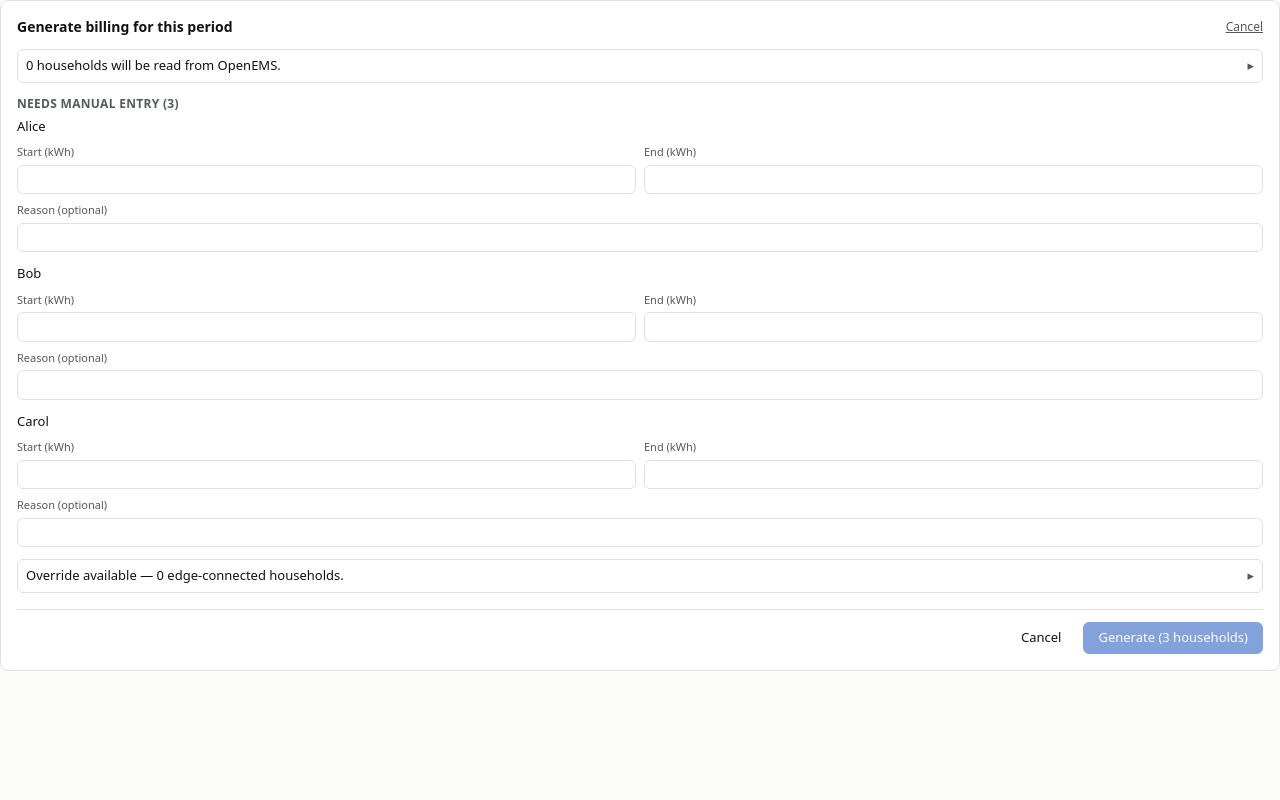
Test: PreflightPanel — partial-failure result view (BC3 polish #182) › partial failure: panel stays open, switches to result view with warn banner + per-code copy
Type "100" into the number field named "Start kWh for Alice" at (326, 179), box top-left (17, 164), bottom-right (636, 194)
Type "150" into the number field named "End kWh for Alice" at (954, 179), box top-left (644, 164), bottom-right (1263, 194)
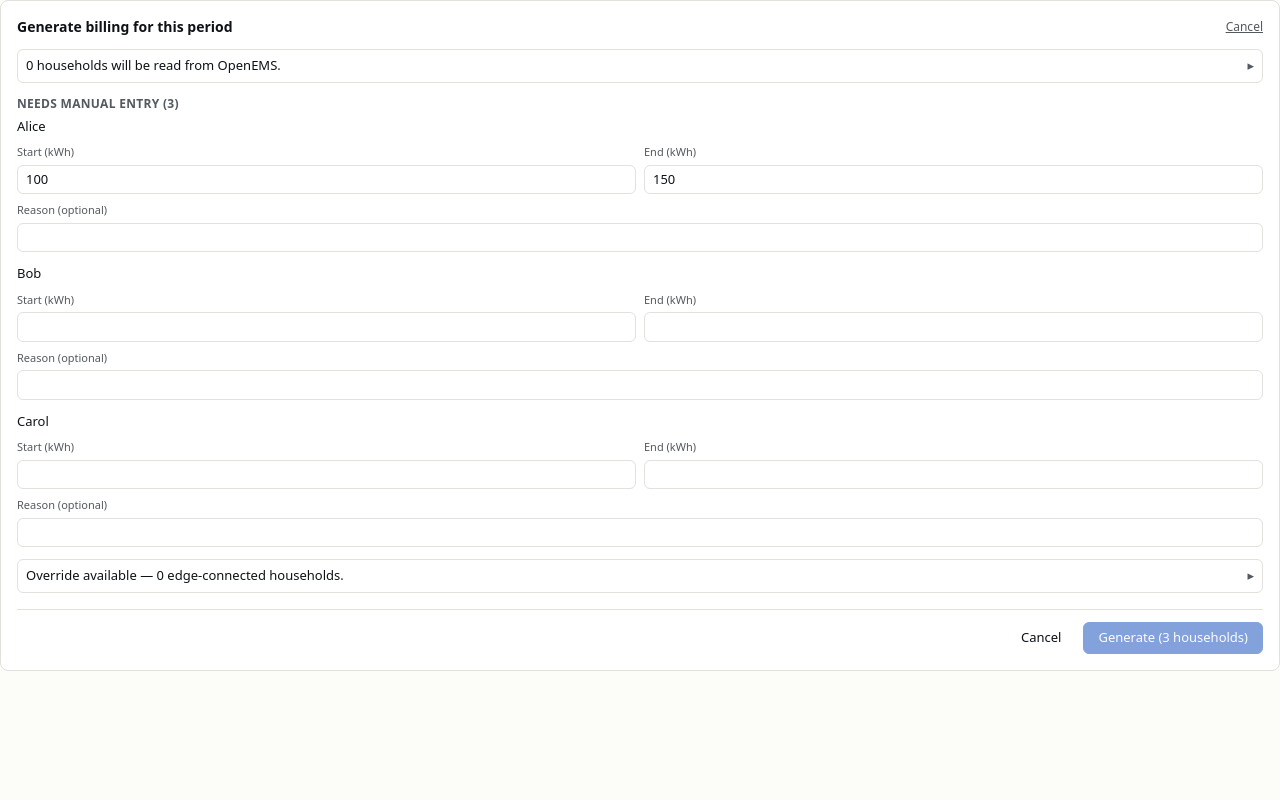
Type "200" into the number field named "Start kWh for Bob" at (326, 327), box top-left (17, 312), bottom-right (636, 342)
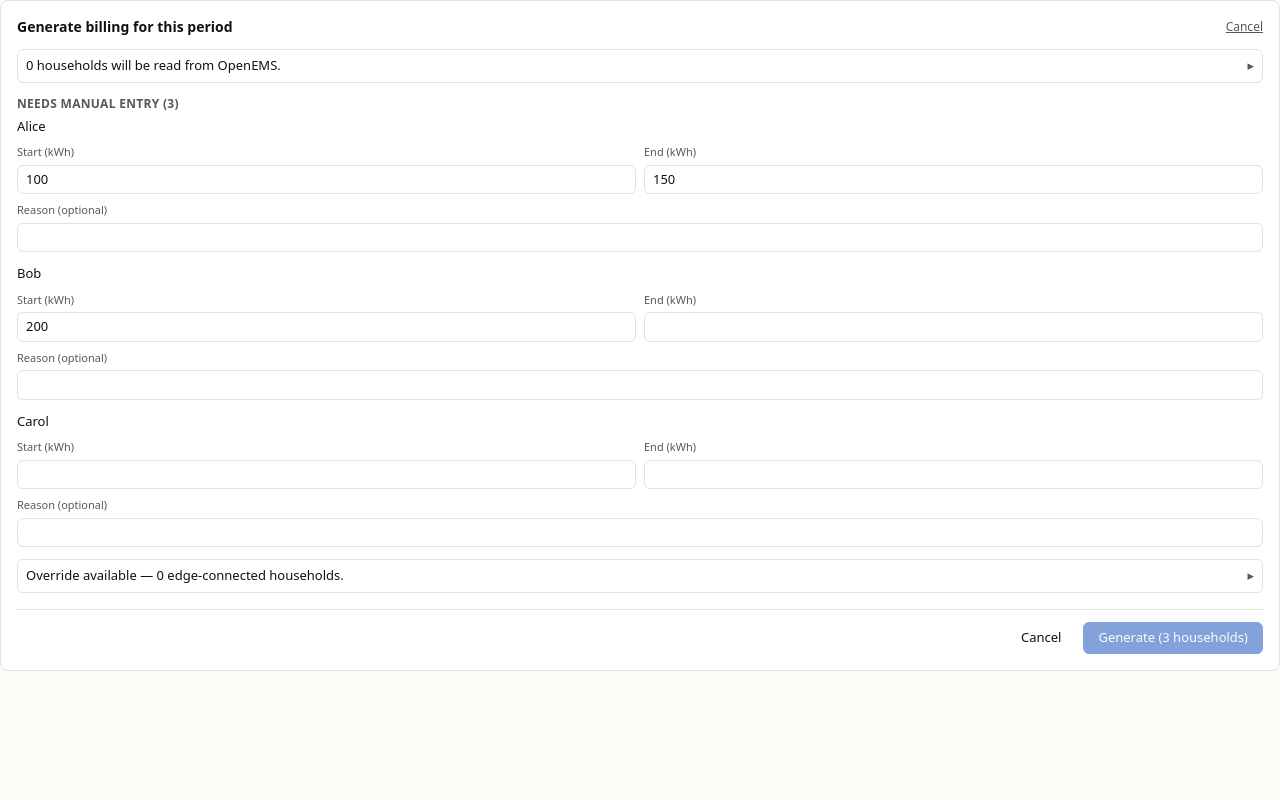
Type "250" into the number field named "End kWh for Bob" at (954, 327), box top-left (644, 312), bottom-right (1263, 342)
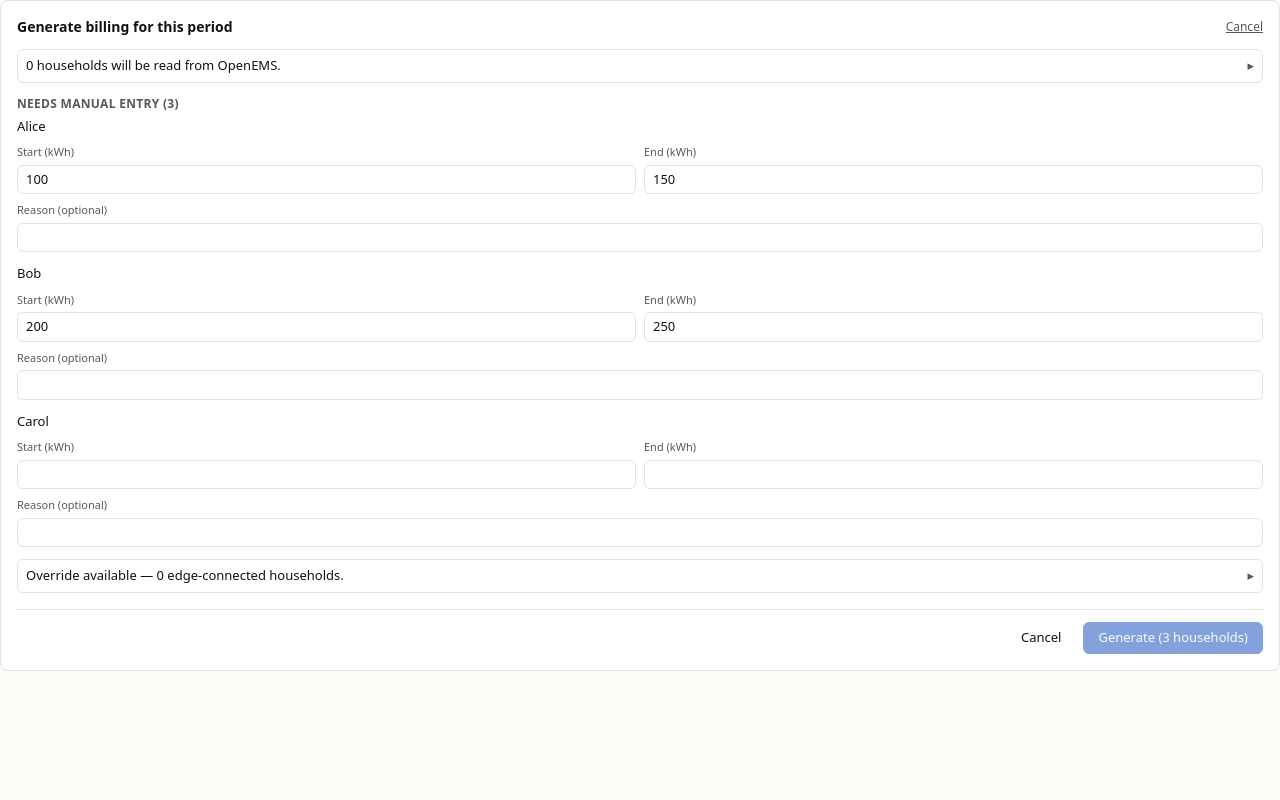
Type "300" into the number field named "Start kWh for Carol" at (326, 474), box top-left (17, 460), bottom-right (636, 489)
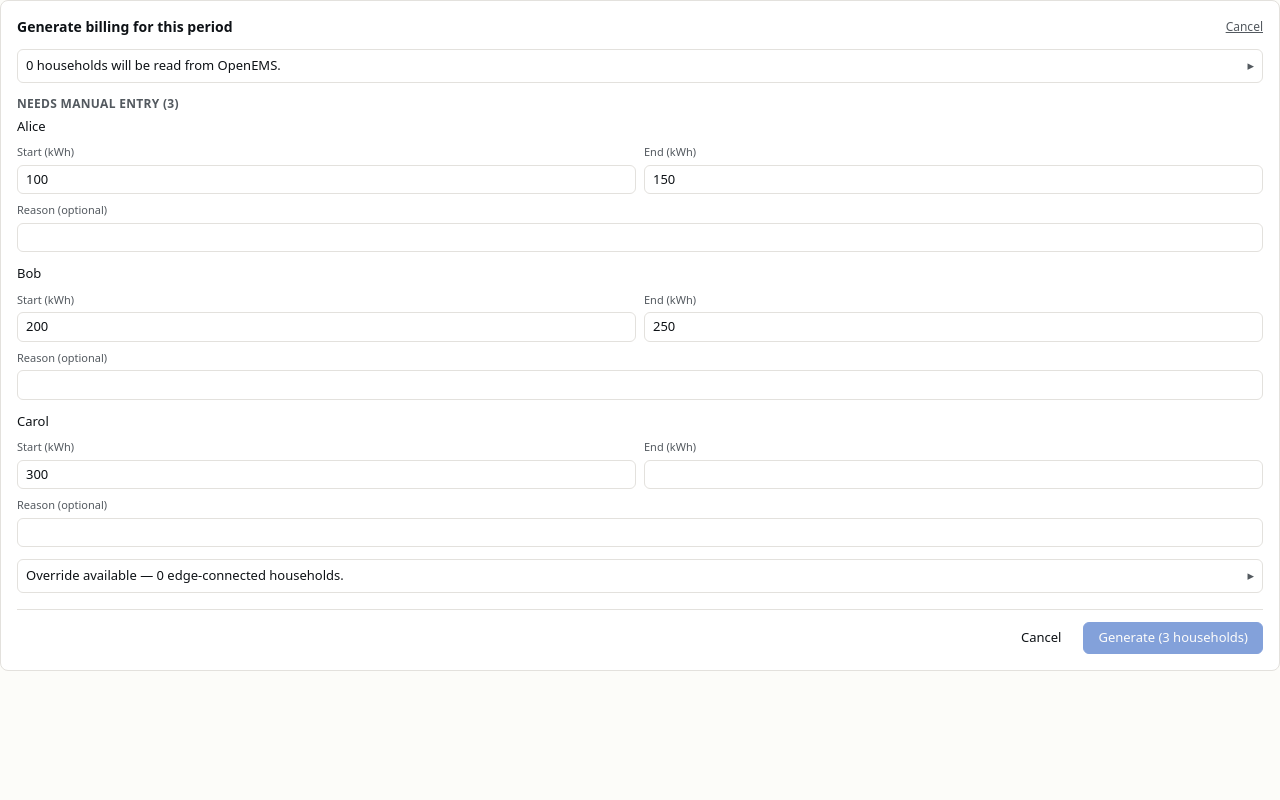
Type "350" into the number field named "End kWh for Carol" at (954, 474), box top-left (644, 460), bottom-right (1263, 489)
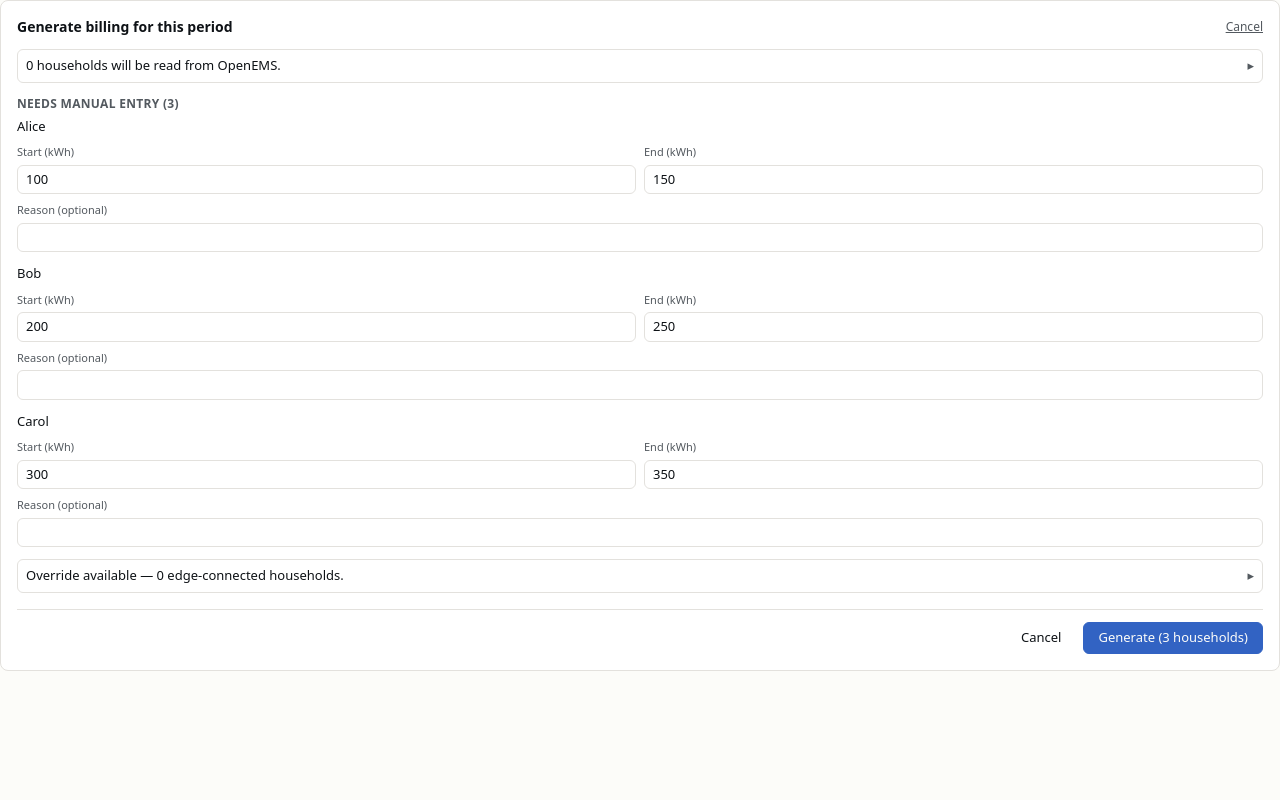
Click the button with test id "preflight-generate-button" at (1173, 638), box top-left (1083, 622), bottom-right (1263, 654)
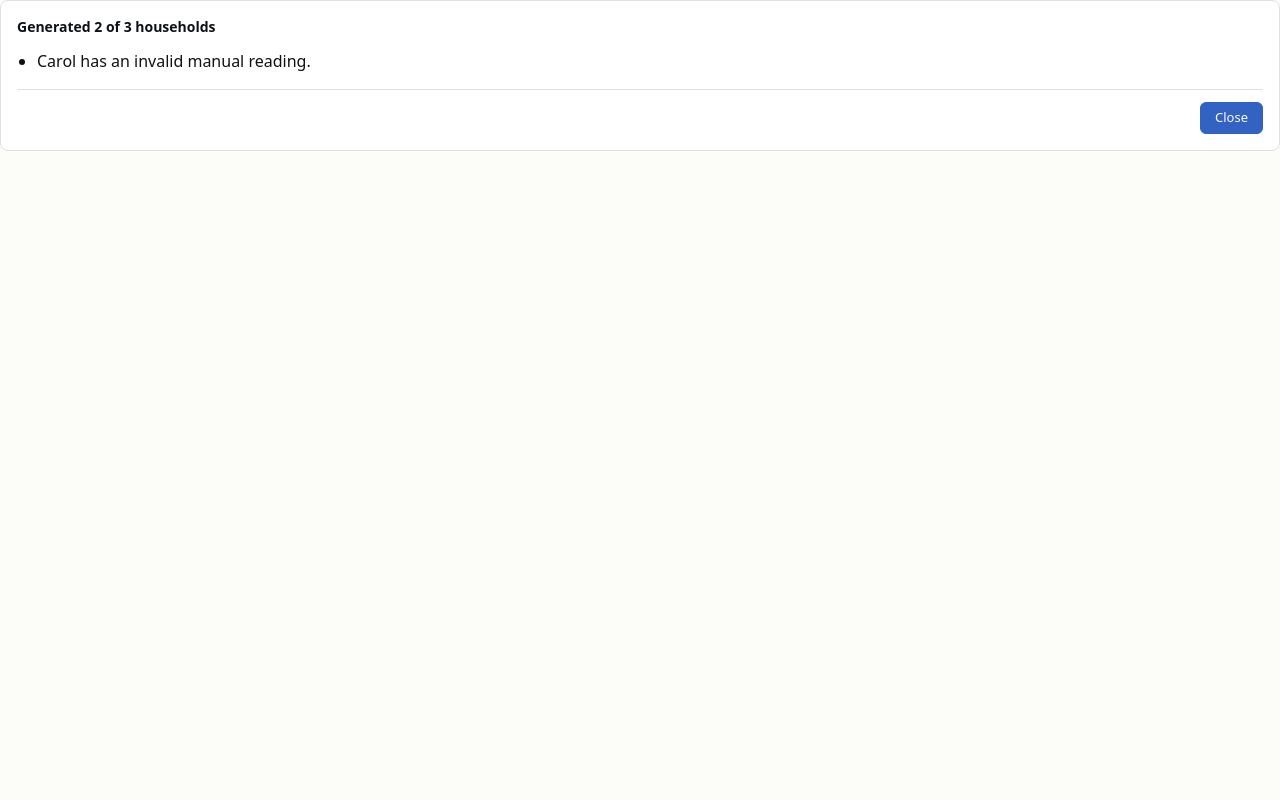
Expected: the element with test id "preflight-panel-result" is shown, top-left (0, 0), bottom-right (1279, 151)
Expected: the text "Generated 2 of 3 households" is shown, top-left (17, 17), bottom-right (216, 37)
Expected: the list with test id "preflight-result-failure-list" reads "Carol has an invalid manual reading.", top-left (37, 50), bottom-right (311, 72)
